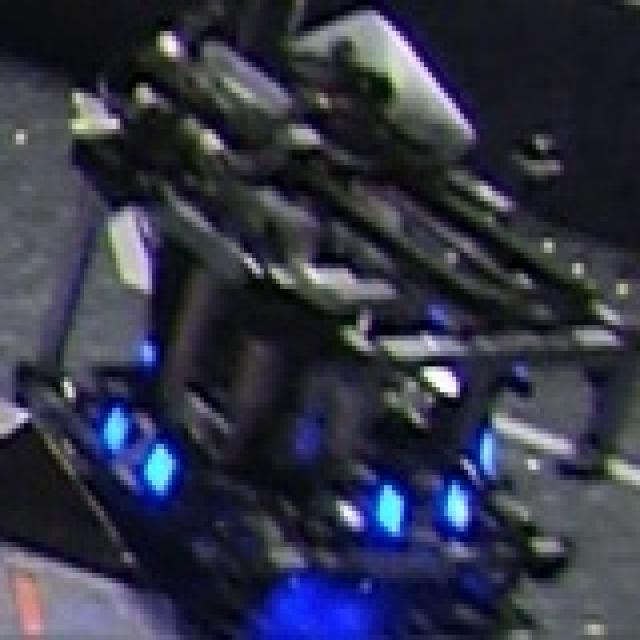B2: (372, 470, 476, 547), (96, 398, 176, 496)
